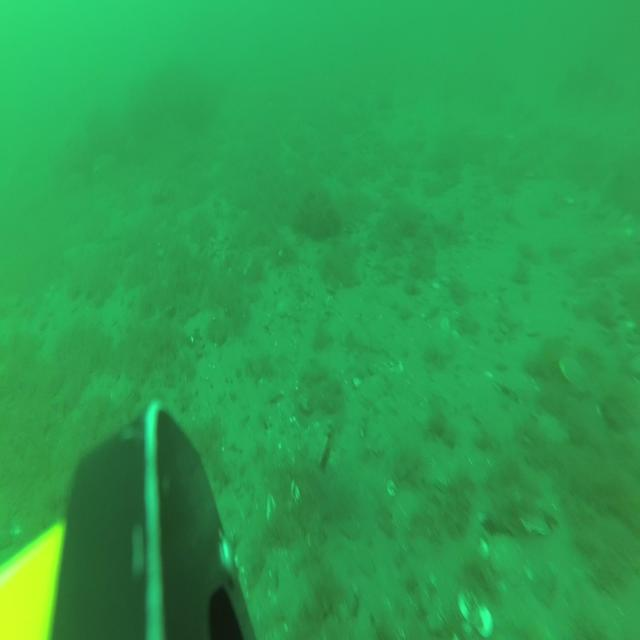scallop: (487, 530, 527, 588), (558, 353, 592, 398), (358, 370, 389, 407), (274, 293, 301, 320)
